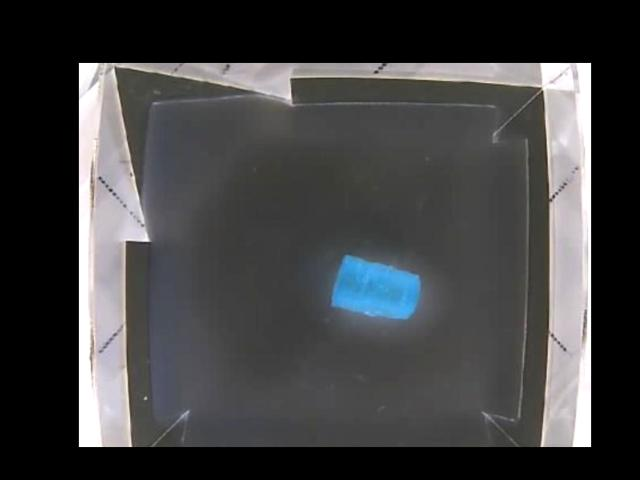Carrot: (331, 255, 422, 319)
